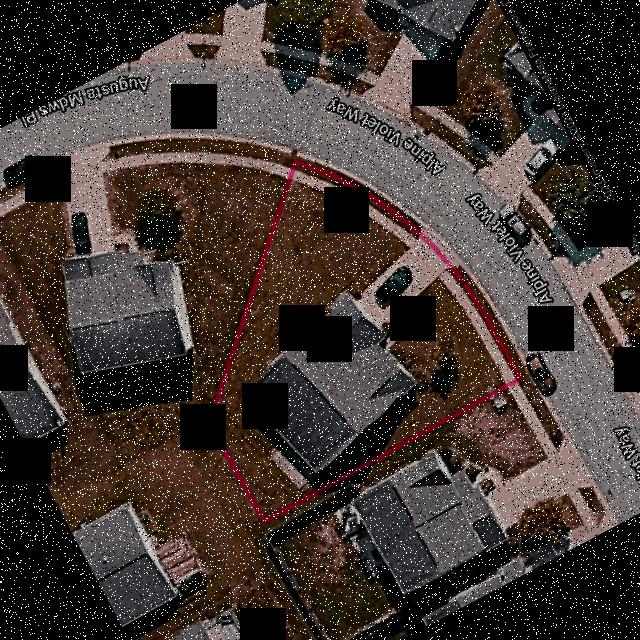Driveway: (354, 238, 448, 349)
Extra Lawn: (293, 156, 422, 232), (454, 265, 528, 378)
House: (244, 291, 414, 477)
Other: (269, 441, 314, 489)
Sidewalk: (291, 169, 417, 249), (438, 269, 514, 384)
